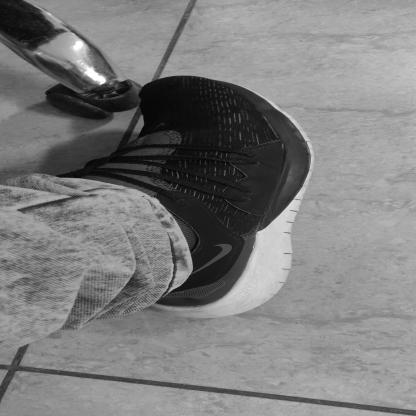ankle: (190, 229, 210, 236)
heel: (171, 305, 181, 314)
pinky: (261, 121, 273, 130)
right_foot: (57, 75, 330, 323)
toe: (144, 100, 154, 103)
